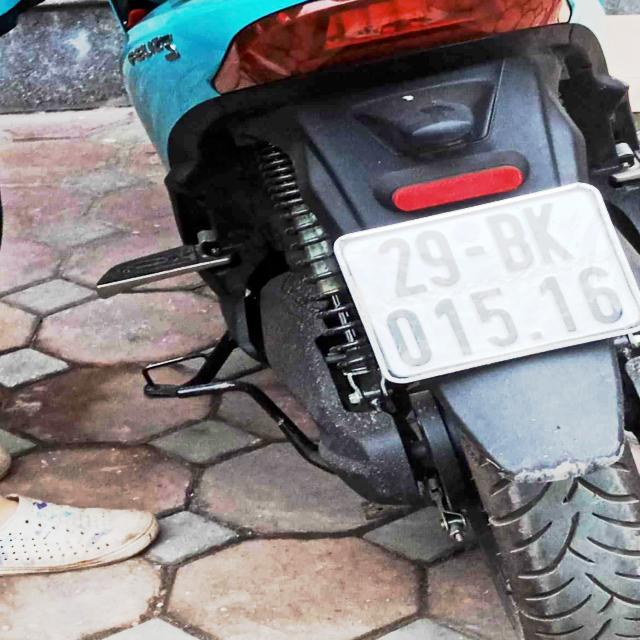license_plate: (329, 181, 640, 385)
